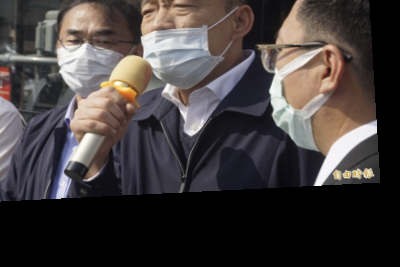mask_weared_incorrect: (138, 4, 263, 94)
